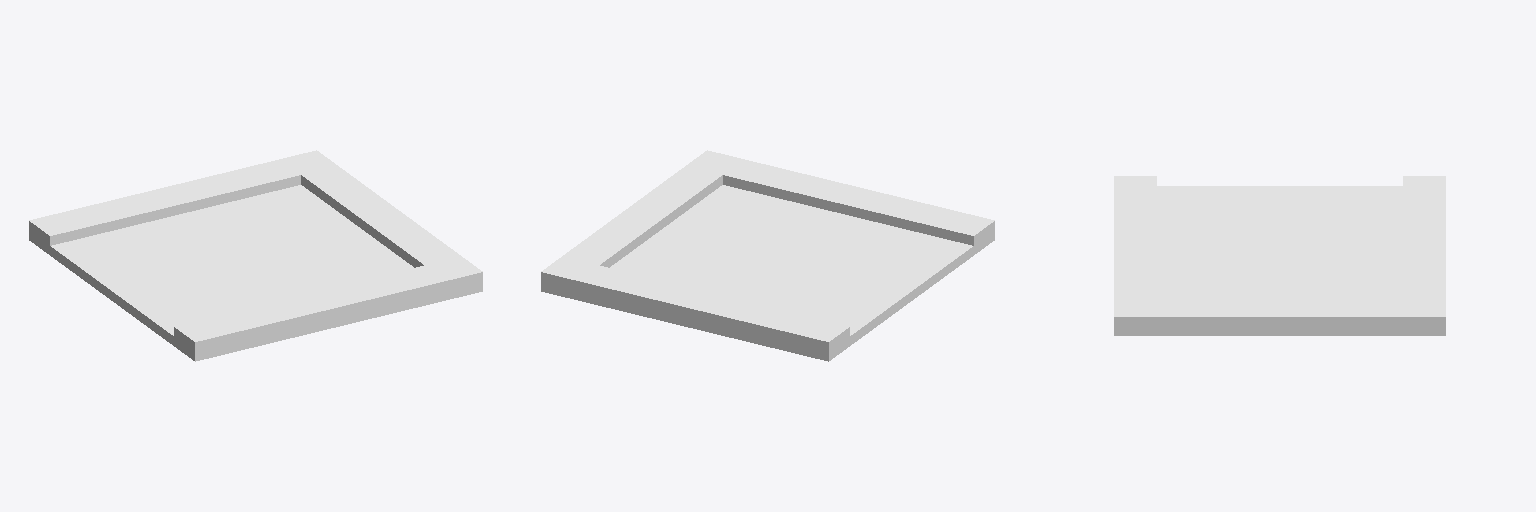
Rendered from End.obj.
The picture shows the model from 3 angles: view 1: azimuth 30°, elevation 25°; view 2: azimuth 150°, elevation 25°; view 3: azimuth 270°, elevation 25°; orthographic projection.
Parts seen in each view (by area): view 1: End; view 2: End; view 3: End.
Boxes of the visible parts, box(x1,y1,x2,y2) form: End: box(29, 150, 482, 361); End: box(541, 150, 994, 361); End: box(1114, 176, 1445, 335).
Size of the model in its own units: 31 by 2 by 31.